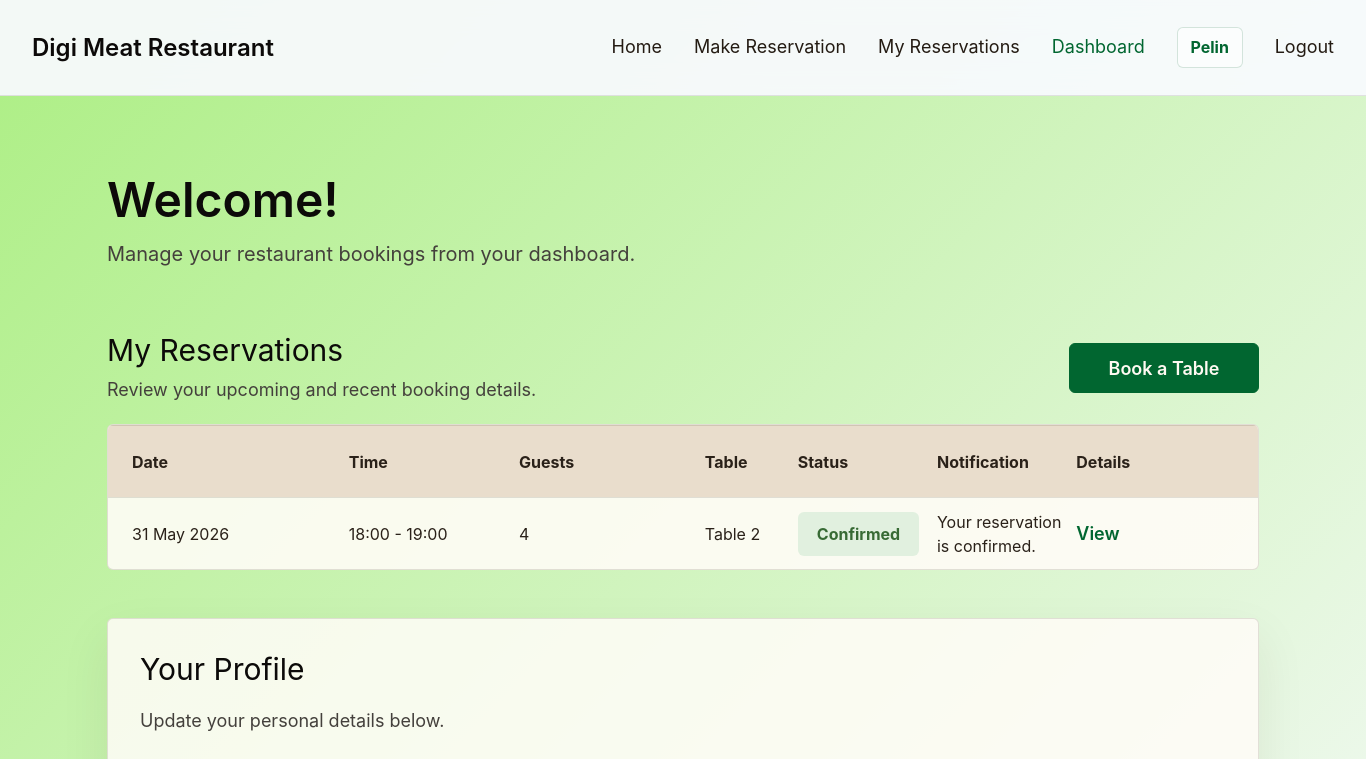
customer profile management › customer dashboard shows reservation list instead of navigation tiles
The image size is (1366, 759).
Expected: the table is shown, [107,424,1259,570]
Click the button "View". click: x=1098, y=534
box: [1076,520,1120,548]
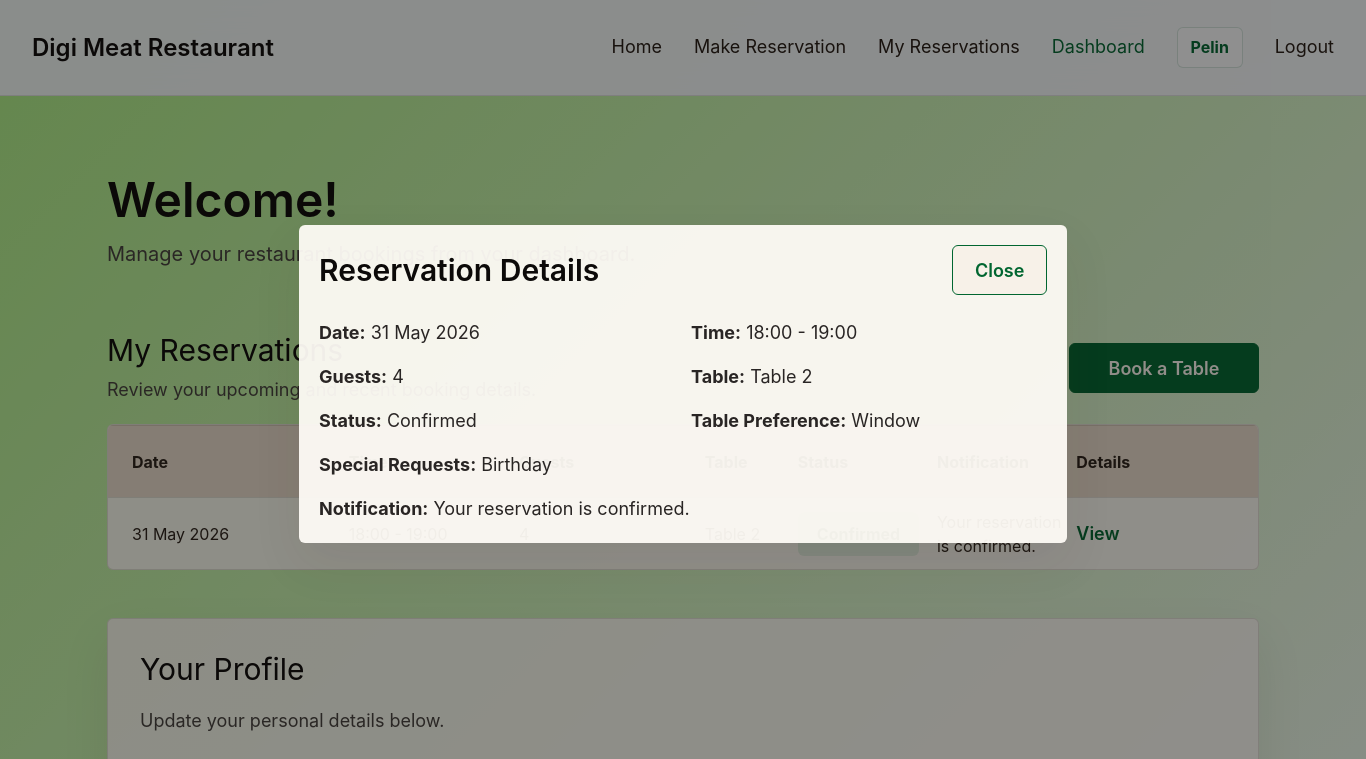
Now the text "Reservation Details" is shown, box [319,252,599,288]
Now the text "Date: 31 May 2026" is shown, box [319,322,480,343]
Now the text "Time: 18:00 - 19:00" is shown, box [691,322,857,343]
